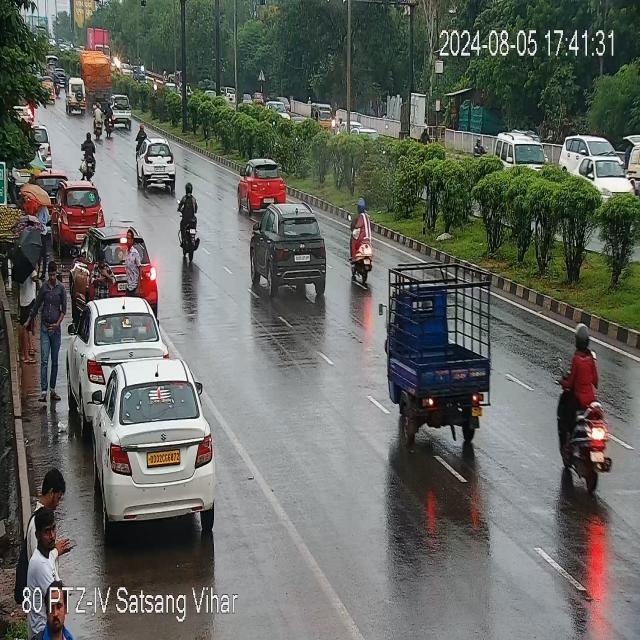2-wheelers: (548, 320, 610, 490), (344, 196, 378, 289), (177, 184, 200, 264), (77, 130, 102, 175), (14, 96, 46, 128), (93, 100, 104, 136), (106, 100, 114, 137), (136, 118, 146, 146), (54, 75, 60, 96)
auto: (380, 254, 492, 446), (312, 103, 329, 129)
car: (90, 362, 214, 532), (71, 295, 160, 402), (250, 204, 330, 302), (72, 229, 157, 304), (560, 131, 634, 196), (52, 183, 98, 244), (238, 159, 289, 214), (139, 140, 176, 190), (66, 79, 88, 116), (114, 92, 136, 125), (32, 131, 50, 170), (56, 67, 67, 83)
pedestrian: (39, 266, 72, 394), (17, 257, 35, 368), (35, 511, 58, 578), (36, 462, 65, 514), (37, 202, 51, 276), (91, 247, 107, 296), (124, 224, 136, 288)
truck: (80, 52, 112, 90)
